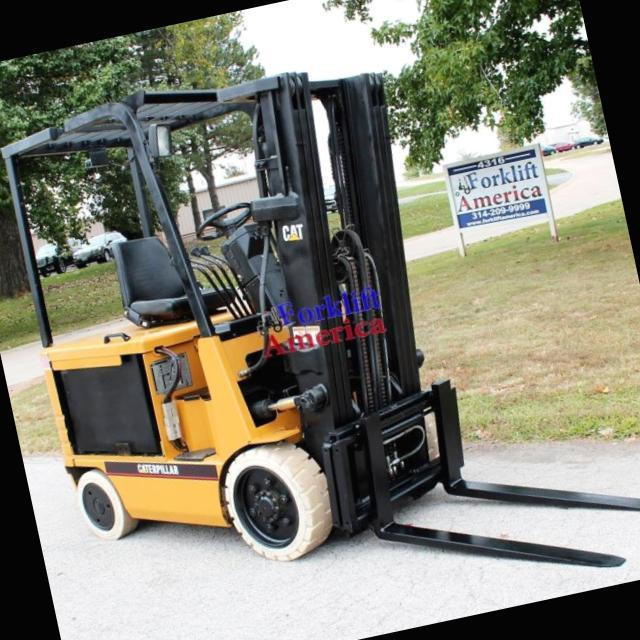forklift: (0, 21, 507, 632)
